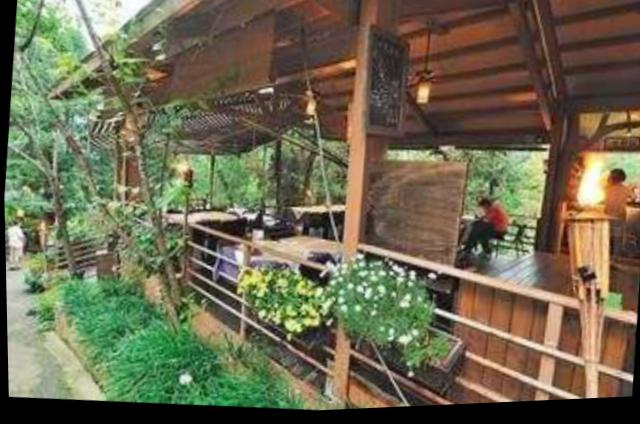fire: (575, 154, 612, 216)
